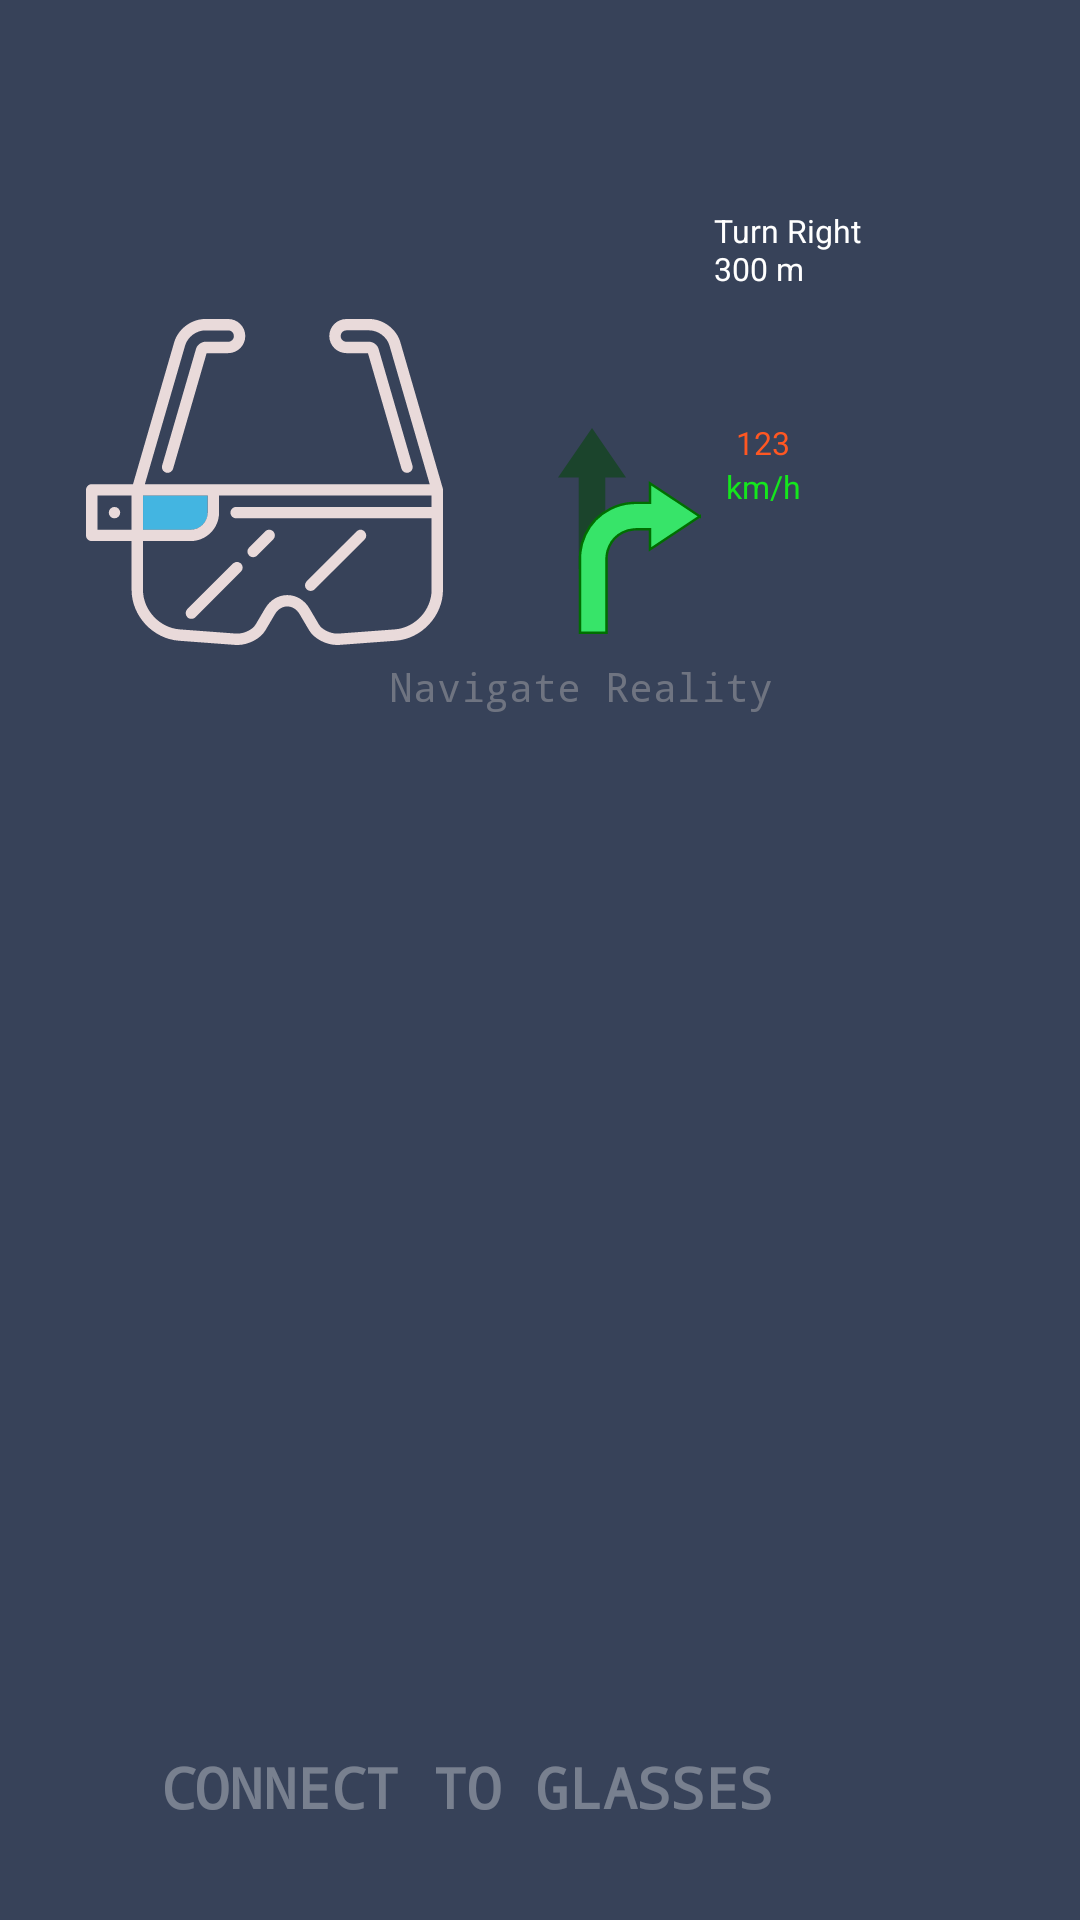

Screen size 1080w x 1920h. Icon name, then its center in pixels as (x=x, y=y):
glasses: (x=264, y=482)
